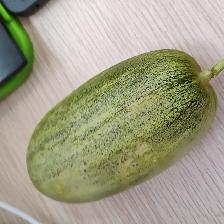gua: (58, 80, 198, 178)
